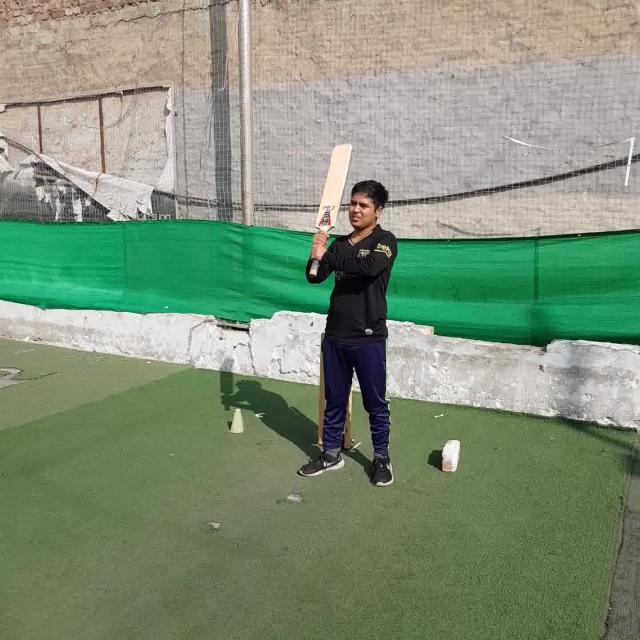bat: (308, 143, 352, 277)
